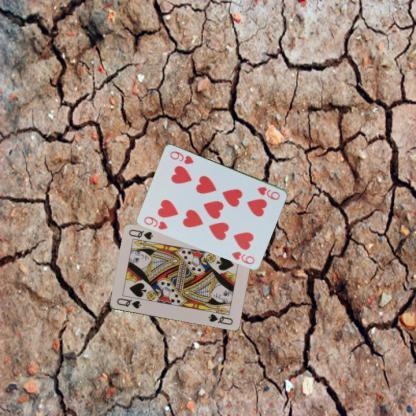9h: (254, 184, 282, 202), (142, 214, 168, 232)
Qs: (114, 296, 142, 310)
